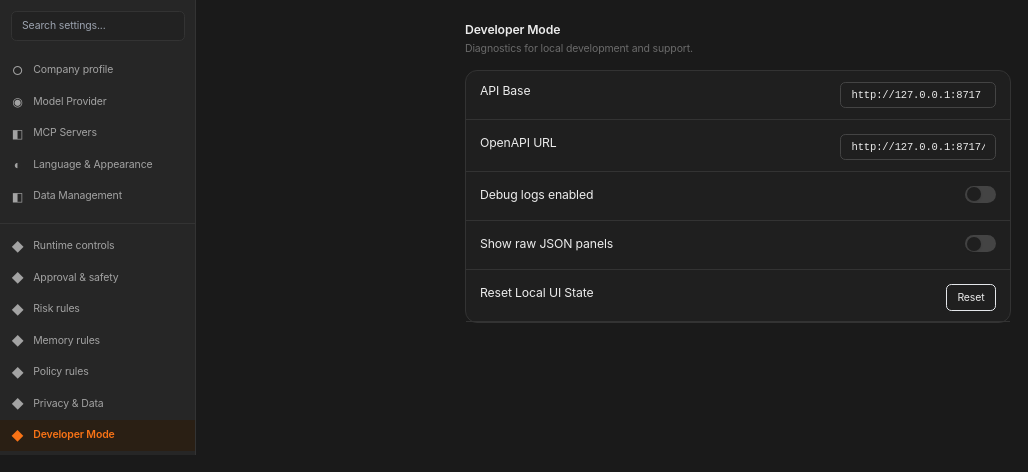
Test case: ordinary user product surface › Developer Mode reset clears local UI runtime state
The width and height of the screenshot is (1028, 472).
Step 1. Click the button "Reset" → (971, 298), box [946, 284, 996, 311]
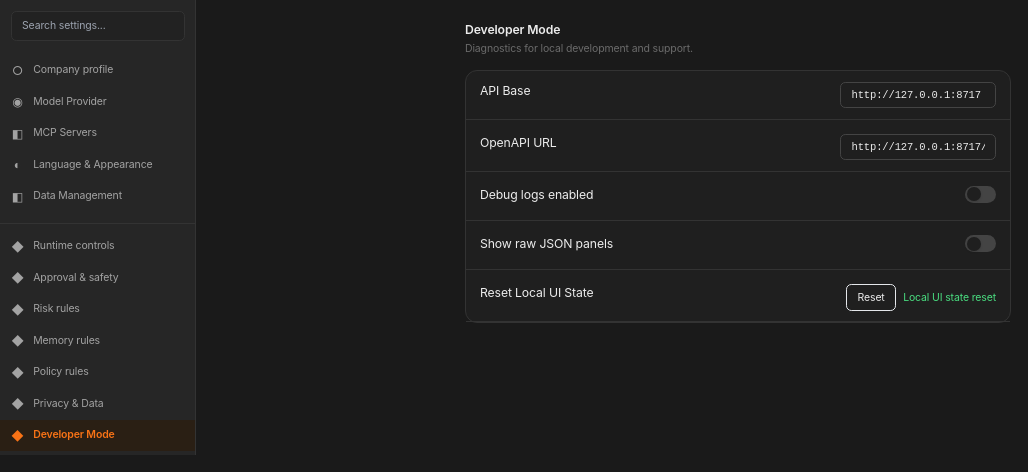
Check: the text "Local UI state reset" is shown, box [903, 290, 996, 304]
